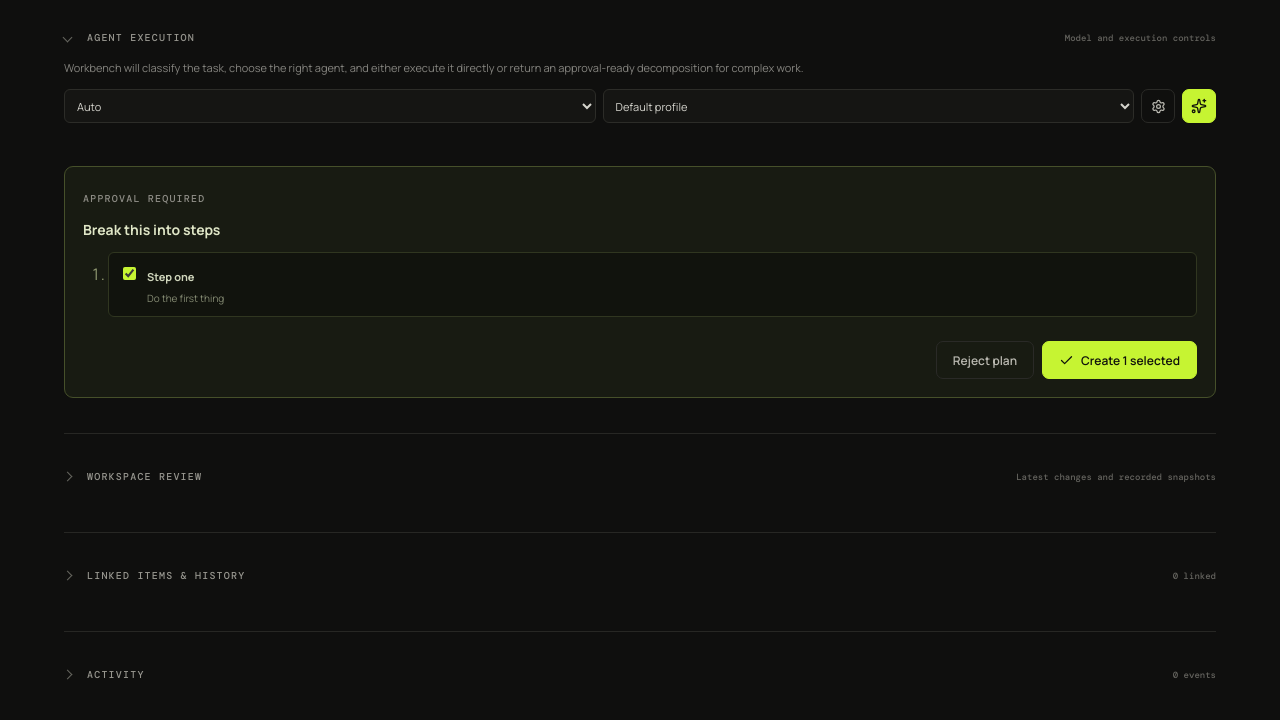
Scenario: WCAG AA: focus after asynchronous task actions › announces and refocuses the task heading after resolving an execution plan
The image size is (1280, 720).
(page scrolled)
Click the button "Reject plan" at (985, 360), box [936,341,1034,379]
(page scrolled)
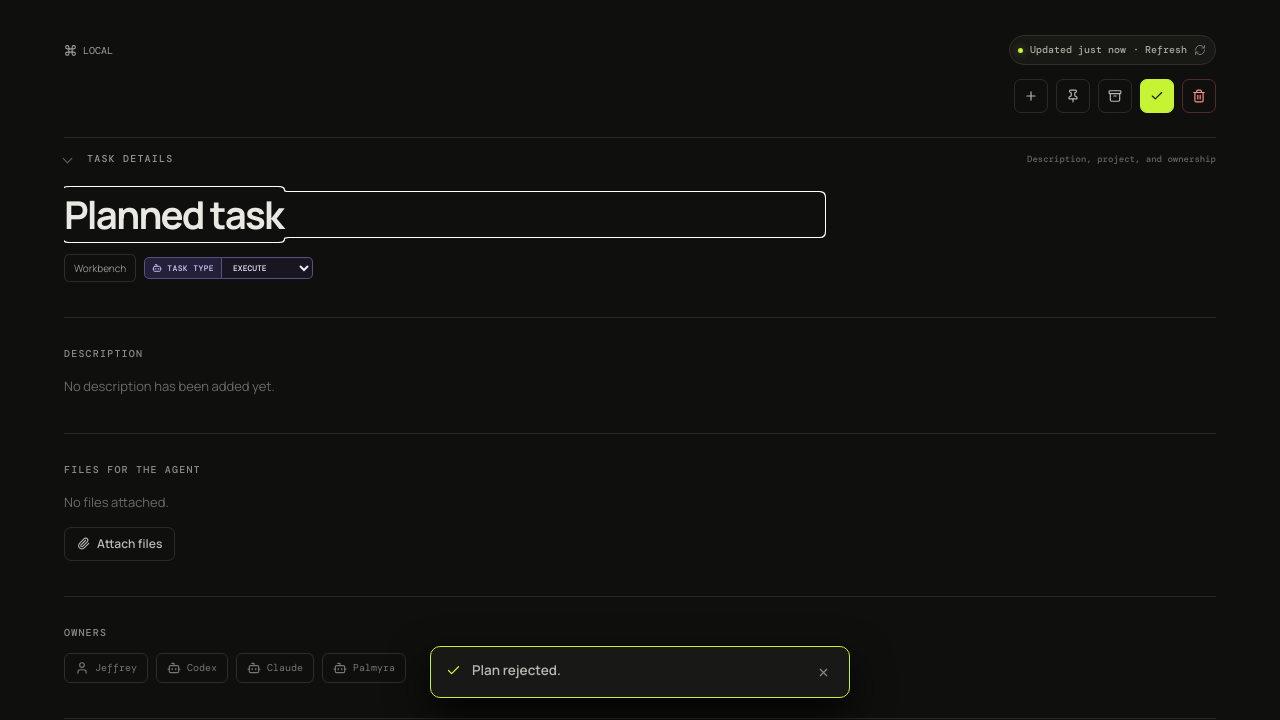
Expected: the text "Plan rejected." is shown, [472,661,561,679]
